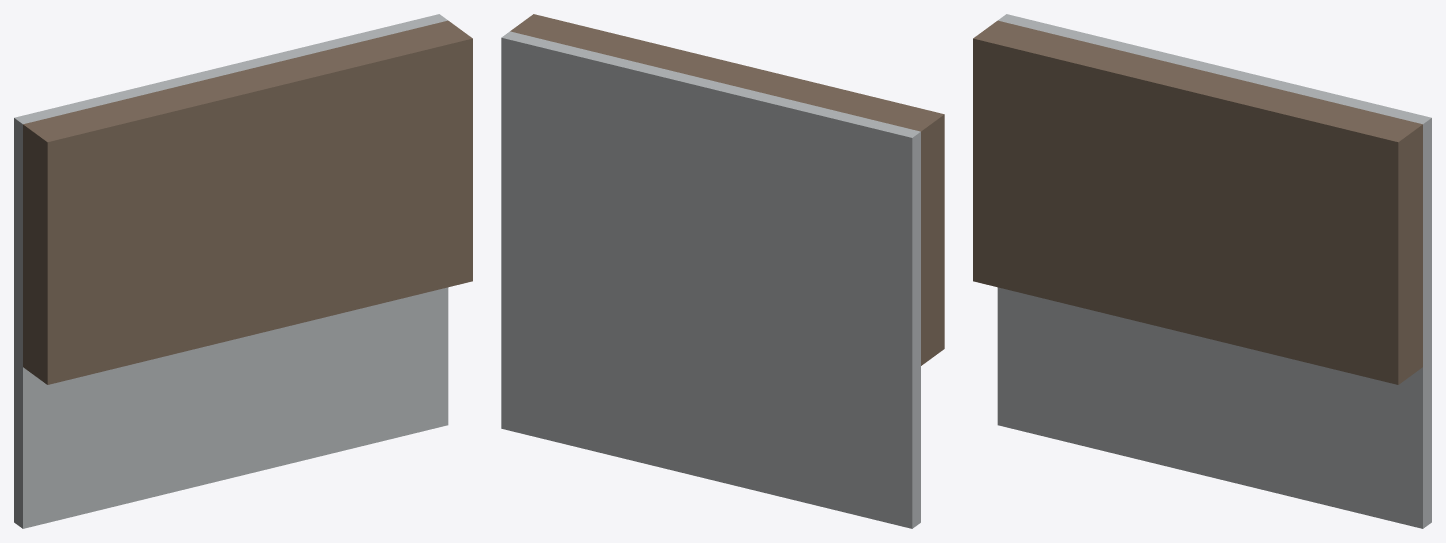
Rendered from genkan_step.glb.
3 views of the same model, side by side, from view 1: azimuth 30°, elevation 25°; view 2: azimuth 150°, elevation 25°; view 3: azimuth 330°, elevation 25° (orthographic). The views are drawn at different scales.
Visible parts, largest first — view 1: world; view 2: world; view 3: world.
Boxes of the visible parts, <box> form: world: <box>14,14,472,528</box>; world: <box>501,14,944,528</box>; world: <box>973,14,1431,528</box>.
Bounding box in the file's own units: 2.2 × 2 × 0.3.
